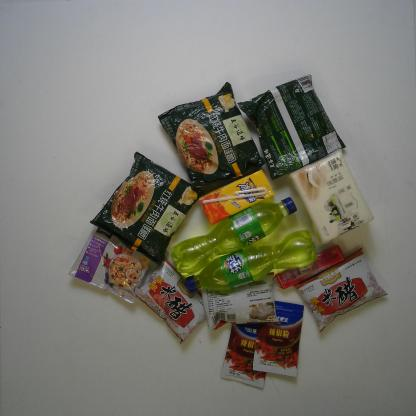Candy: (276, 245, 345, 289)
Drink: (170, 196, 298, 277), (185, 230, 318, 292), (198, 169, 274, 226)
Instant Drink: (67, 225, 152, 305)
Instant Noodles: (89, 151, 201, 266), (157, 81, 265, 195), (238, 74, 347, 181)
Seasoner: (293, 247, 388, 334), (134, 257, 206, 343), (200, 272, 280, 332), (252, 300, 304, 378), (221, 324, 266, 390)
Tissue: (287, 148, 375, 247)
